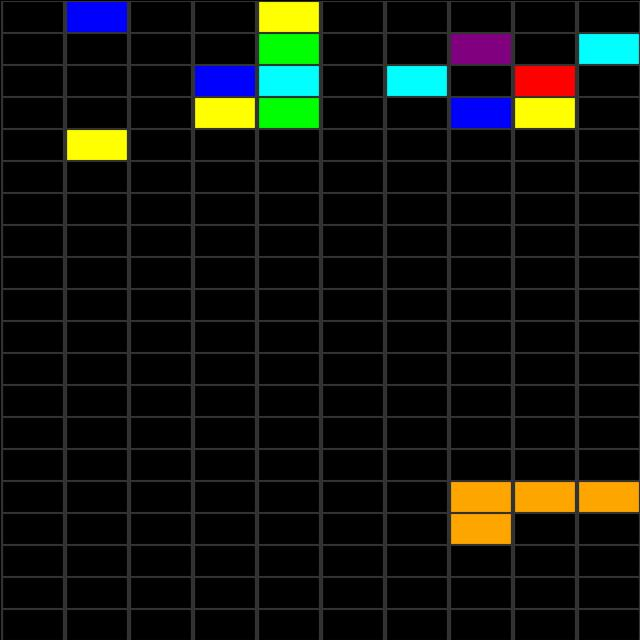Tetrimino_I: (449, 480, 636, 545)
